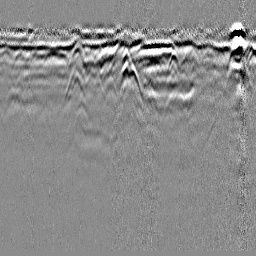cavity: (118, 60, 143, 99)
